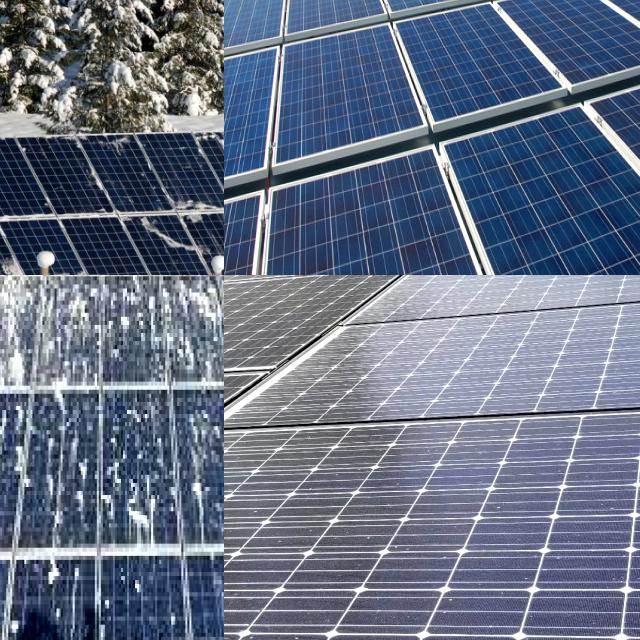bird: (39, 414, 90, 512), (181, 404, 224, 510), (168, 282, 220, 355), (40, 548, 80, 630), (115, 474, 163, 538), (0, 435, 22, 532), (0, 423, 23, 514), (0, 289, 24, 369), (0, 398, 23, 477), (0, 592, 12, 640)
crack: (407, 105, 640, 275), (253, 133, 514, 275), (366, 0, 564, 146), (278, 3, 430, 192), (267, 34, 444, 175), (581, 61, 640, 275), (270, 0, 421, 54)
dust: (494, 401, 640, 538), (224, 288, 377, 399), (507, 275, 640, 401), (311, 574, 506, 640), (546, 556, 640, 640), (370, 275, 493, 299)
panel: (0, 232, 104, 275), (131, 197, 183, 275), (76, 130, 150, 157), (201, 127, 224, 206)
